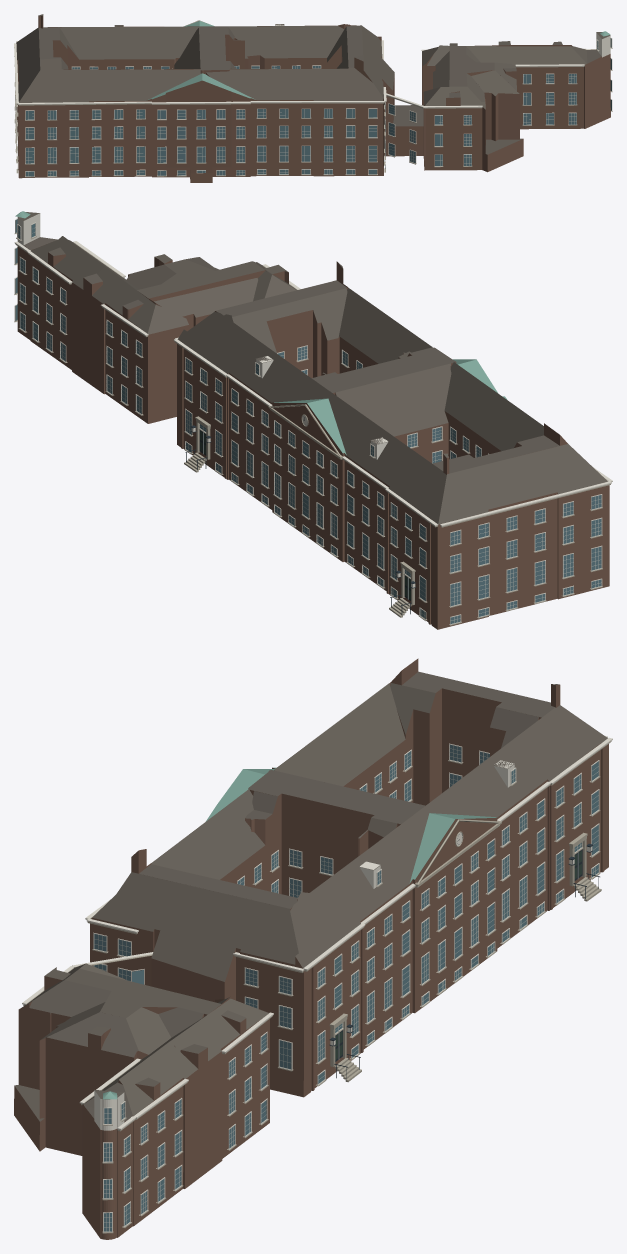
The model's file is luther-museum.glb.
3 views of the same model, one above another, from view 1: azimuth 30°, elevation 25°; view 2: azimuth 150°, elevation 25°; view 3: azimuth 270°, elevation 25° (orthographic). The views are drawn at different scales.
Visible parts, largest first — view 1: luther-museum; view 2: luther-museum; view 3: luther-museum.
Boxes of the visible parts, left/top/right/bottom form: luther-museum: left=14, top=14, right=612, bottom=182; luther-museum: left=14, top=211, right=612, bottom=629; luther-museum: left=14, top=658, right=612, bottom=1239.
Bounding box in the file's own units: 110 × 23.03 × 65.15.
